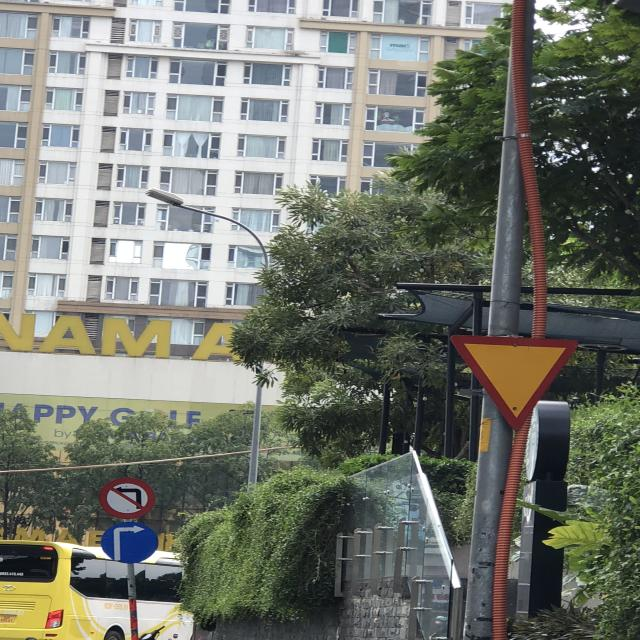Bien bao cam re trai: (97, 476, 156, 520)
Bien bao giao nhau voi duong uu tien: (446, 328, 579, 435)
Bien bao huong di phai theo: (99, 520, 162, 566)
